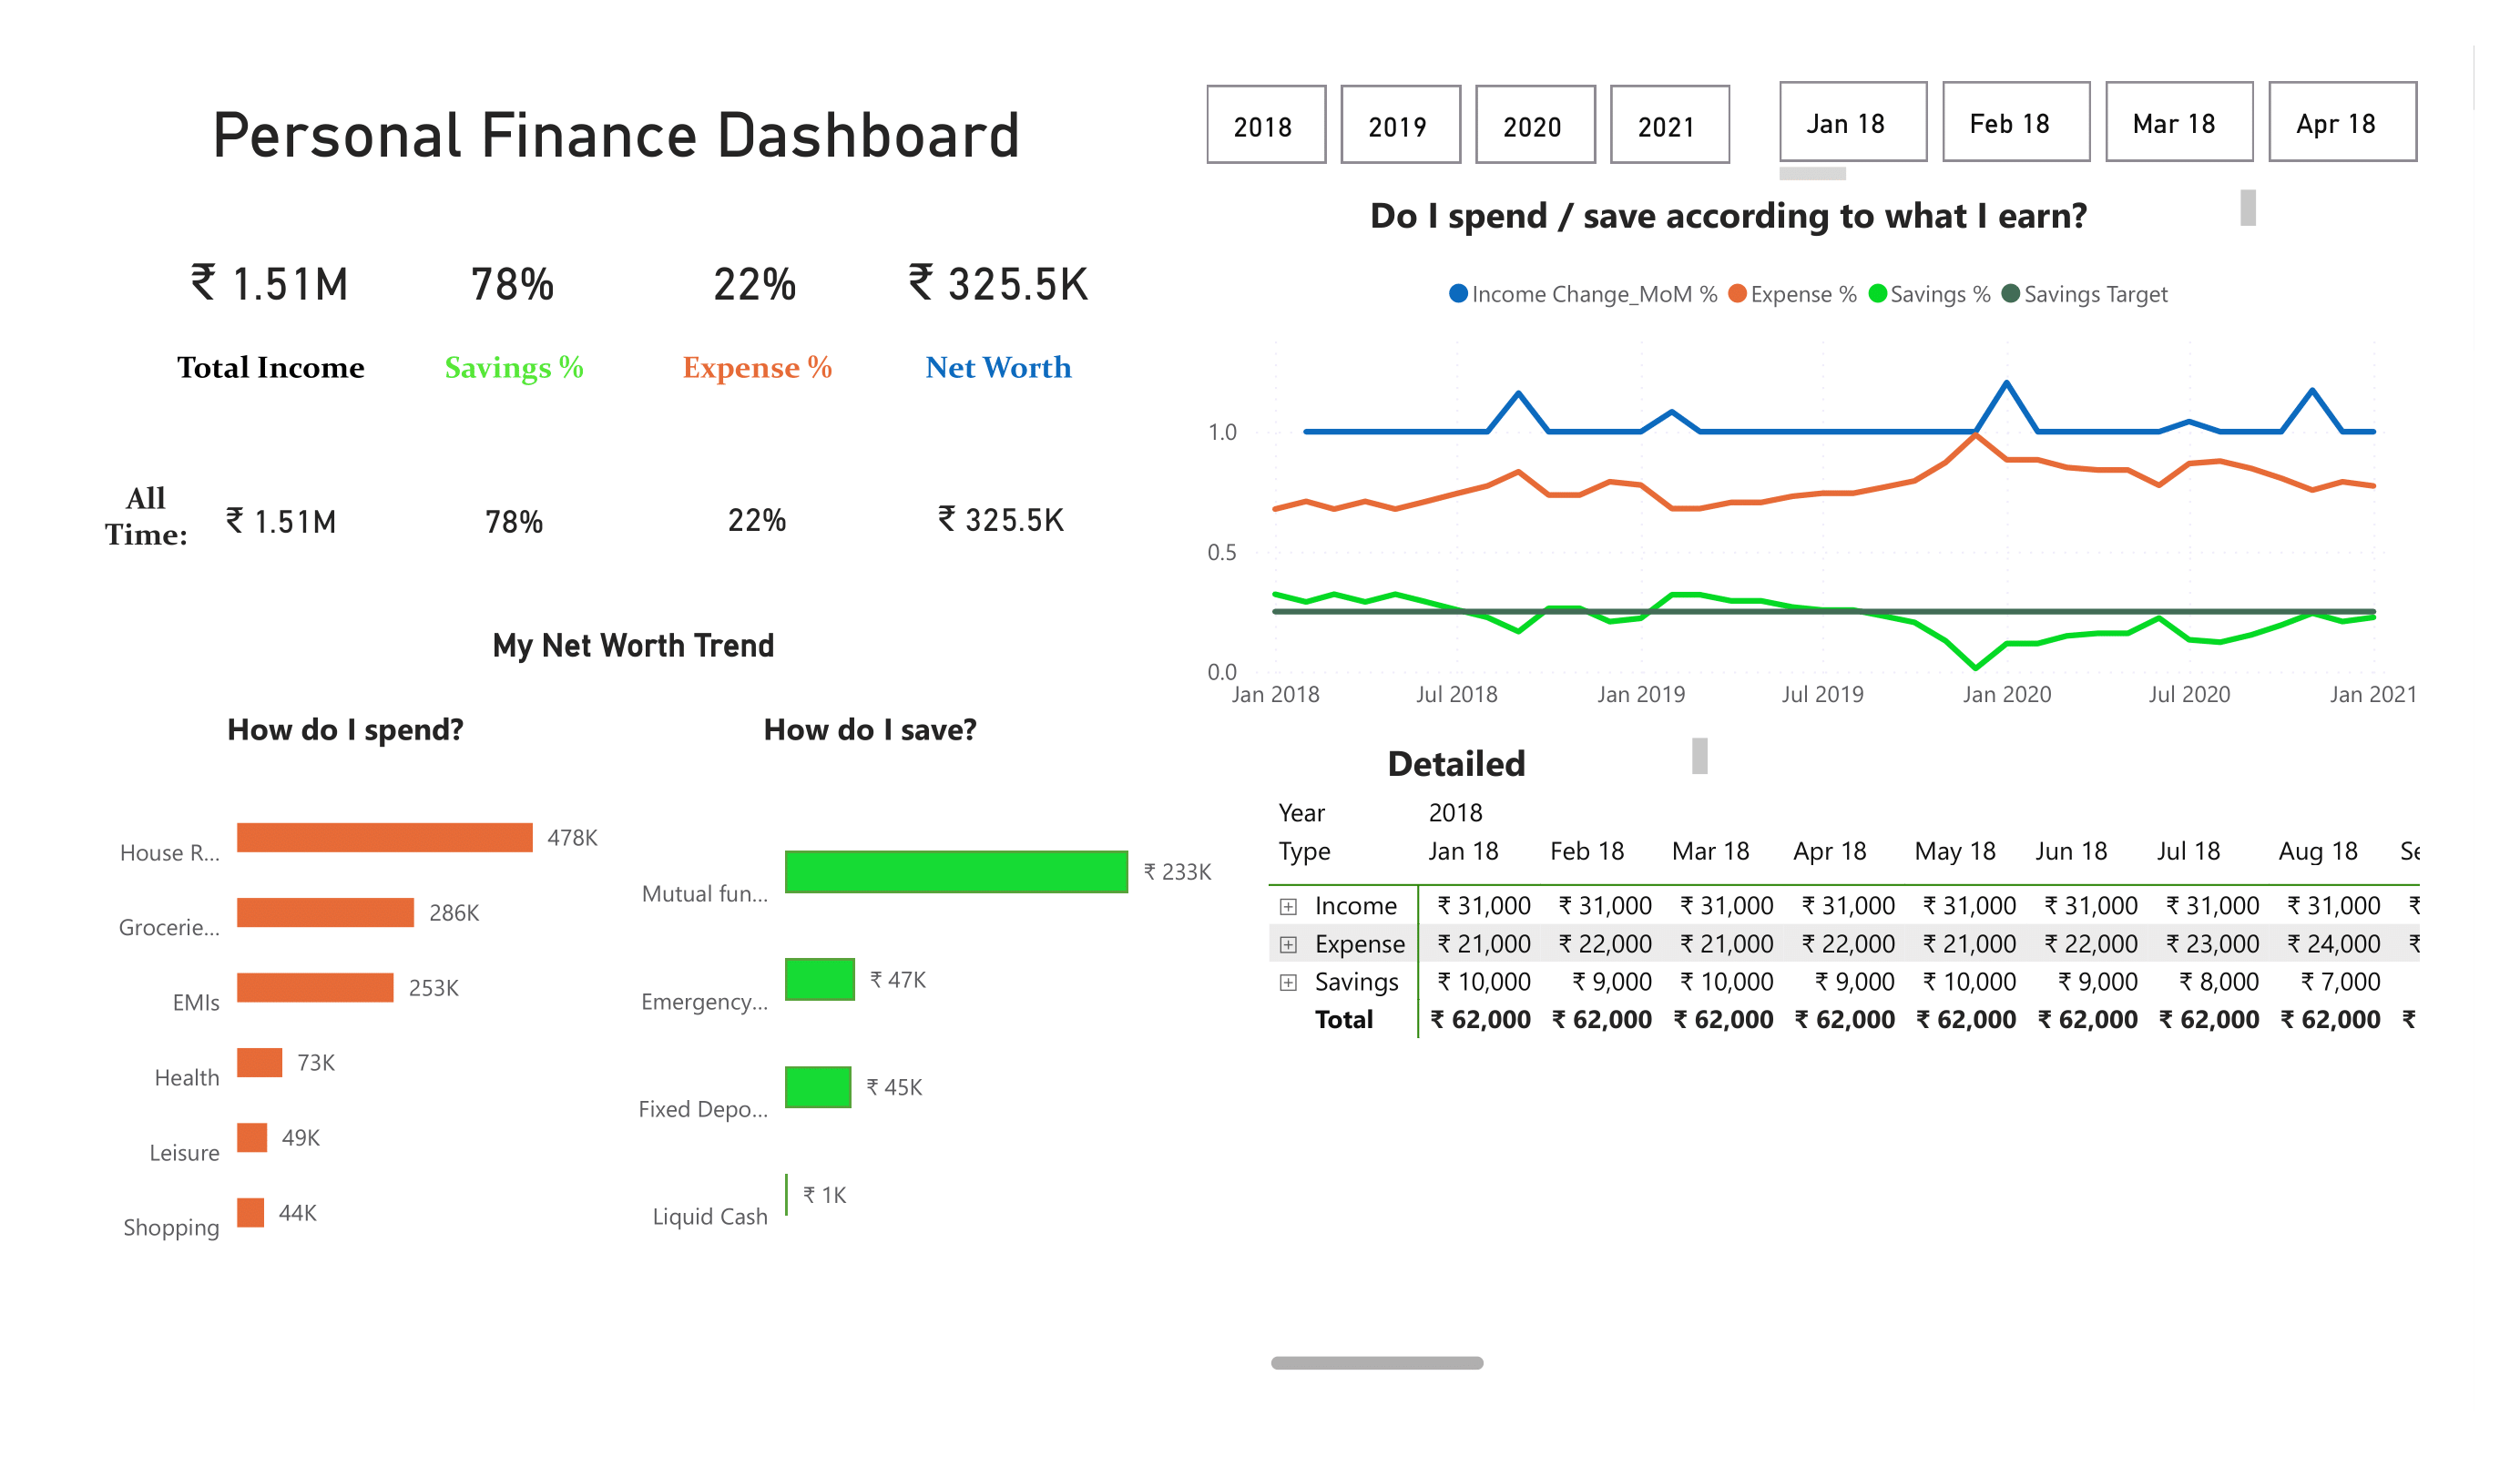

The page's visual inventory and layout, read from the dashboard file:
{"tool":"powerbi","page":{"name":"Fin Dashboard","canvas":[1280,720],"ordinal":0},"visuals":[{"type":"card","fields":{"Values":["Key Measures.Total Income"]},"box":[54.3,76,127.9,97],"z":0,"group":"g3"},{"type":"lineChart","fields":{"Y":["Key Measures.Income Change_MoM %","Key Measures.Expense %","Key Measures.Savings %","Key Measures.Savings Targer"],"Category":["MyFinData.Date"]},"box":[606.7,111.3,648.9,248.7],"z":0,"group":"g2"},{"type":"group","id":"g1","title":"Group 5","box":[18.9,344.4,601.1,324.4],"z":0},{"type":"clusteredBarChart","fields":{"Category":["MyFinData.Component"],"Y":["Key Measures.Total Saving","Key Measures.Expense %"]},"box":[296.1,389,324.9,279.7],"z":0,"group":"g1"},{"type":"textbox","box":[692.7,71.1,476.9,40.2],"z":1000,"group":"g2"},{"type":"card","fields":{"Values":["Key Measures.Expense %"]},"box":[182.3,76,127.9,97],"z":1000,"group":"g3"},{"type":"textbox","box":[702.2,360,178.9,40],"z":1000},{"type":"clusteredBarChart","fields":{"Category":["MyFinData.Component"],"Y":["Key Measures.Total Expense","Key Measures.Expense %"]},"box":[18.9,381.2,277.6,279.3],"z":1000,"group":"g1"},{"type":"advancedSlicerVisual","fields":{"Values":["MyFinData.Year"]},"box":[606.7,15.6,287.8,51.1],"z":2000},{"type":"card","fields":{"Values":["Key Measures.Savings %"]},"box":[310.2,76,127.9,97],"z":2000,"group":"g3"},{"type":"textbox","box":[295.8,344.4,277.6,36.8],"z":2000,"group":"g1"},{"type":"advancedSlicerVisual","fields":{"Values":["MyFinData.Date"]},"box":[909,14,347,65],"z":3000},{"type":"card","fields":{"Values":["Key Measures.Total Saving"]},"box":[438.1,76,127.9,97],"z":3000,"group":"g3"},{"type":"textbox","box":[18.9,344.4,277.6,36.8],"z":3000,"group":"g1"},{"type":"group","id":"g2","title":"Group 1","box":[606.7,71.1,648.9,288.9],"z":4000},{"type":"textbox","box":[44.6,154.8,148.2,35.5],"z":4000,"group":"g3"},{"type":"textbox","box":[172.6,154.8,148.2,35.5],"z":5000,"group":"g3"},{"type":"pivotTable","fields":{"Values":["Key Measures.Values"],"Columns":["MyFinData.Year","MyFinData.Date"],"Rows":["Type.Type","MyFinData.Component"]},"box":[640,388.9,615.6,315.6],"z":5000},{"type":"textbox","box":[300.5,154.8,148.2,35.5],"z":6000,"group":"g3"},{"type":"card","fields":{"Values":["Key Measures.My Net Worth"]},"box":[225.6,288.9,168.9,55.6],"z":6000},{"type":"textbox","box":[428.4,154.8,148.2,35.5],"z":7000,"group":"g3"},{"type":"card","fields":{"Values":["Key Measures.Total Income"]},"box":[59.7,203.4,128.2,96.3],"z":7000},{"type":"card","fields":{"Values":["Key Measures.Expense %"]},"box":[182.9,202.9,128.3,96.9],"z":8000},{"type":"card","fields":{"Values":["Key Measures.Savings %"]},"box":[311.2,201.8,128.3,96.9],"z":9000},{"type":"card","fields":{"Values":["Key Measures.Total Saving"]},"box":[439.5,201.8,128.3,96.9],"z":10000},{"type":"group","id":"g3","title":"Group 2","box":[20,15.6,556.7,268.2],"z":11000},{"type":"textbox","box":[20,223.7,66,60.1],"z":14000,"group":"g3"},{"type":"card","fields":{"Values":["Key Measures.Title"]},"box":[51.6,15.6,498.5,55.8],"z":15000,"group":"g3"}]}

Visuals, with their boxes on the page's 1280x720 design canvas (x1, y1, x2, y2). These are canvas units, not pixel positions in the 2520x1457 screenshot, which may show the page scaled, cropped or inside an application window:
card - Key Measures.Total Income: (54, 76, 182, 173)
lineChart - Key Measures.Income Change_MoM % x Key Measures.Expense %: (607, 111, 1256, 360)
"Group 5" group: (19, 344, 620, 669)
clusteredBarChart - MyFinData.Component x Key Measures.Total Saving: (296, 389, 621, 669)
textbox: (693, 71, 1170, 111)
card - Key Measures.Expense %: (182, 76, 310, 173)
textbox: (702, 360, 881, 400)
clusteredBarChart - MyFinData.Component x Key Measures.Total Expense: (19, 381, 296, 660)
advancedSlicerVisual - MyFinData.Year: (607, 16, 894, 67)
card - Key Measures.Savings %: (310, 76, 438, 173)
textbox: (296, 344, 573, 381)
advancedSlicerVisual - MyFinData.Date: (909, 14, 1256, 79)
card - Key Measures.Total Saving: (438, 76, 566, 173)
textbox: (19, 344, 296, 381)
"Group 1" group: (607, 71, 1256, 360)
textbox: (45, 155, 193, 190)
textbox: (173, 155, 321, 190)
pivotTable - Key Measures.Values x MyFinData.Year: (640, 389, 1256, 704)
textbox: (300, 155, 449, 190)
card - Key Measures.My Net Worth: (226, 289, 394, 344)
textbox: (428, 155, 577, 190)
card - Key Measures.Total Income: (60, 203, 188, 300)
card - Key Measures.Expense %: (183, 203, 311, 300)
card - Key Measures.Savings %: (311, 202, 440, 299)
card - Key Measures.Total Saving: (440, 202, 568, 299)
"Group 2" group: (20, 16, 577, 284)
textbox: (20, 224, 86, 284)
card - Key Measures.Title: (52, 16, 550, 71)
